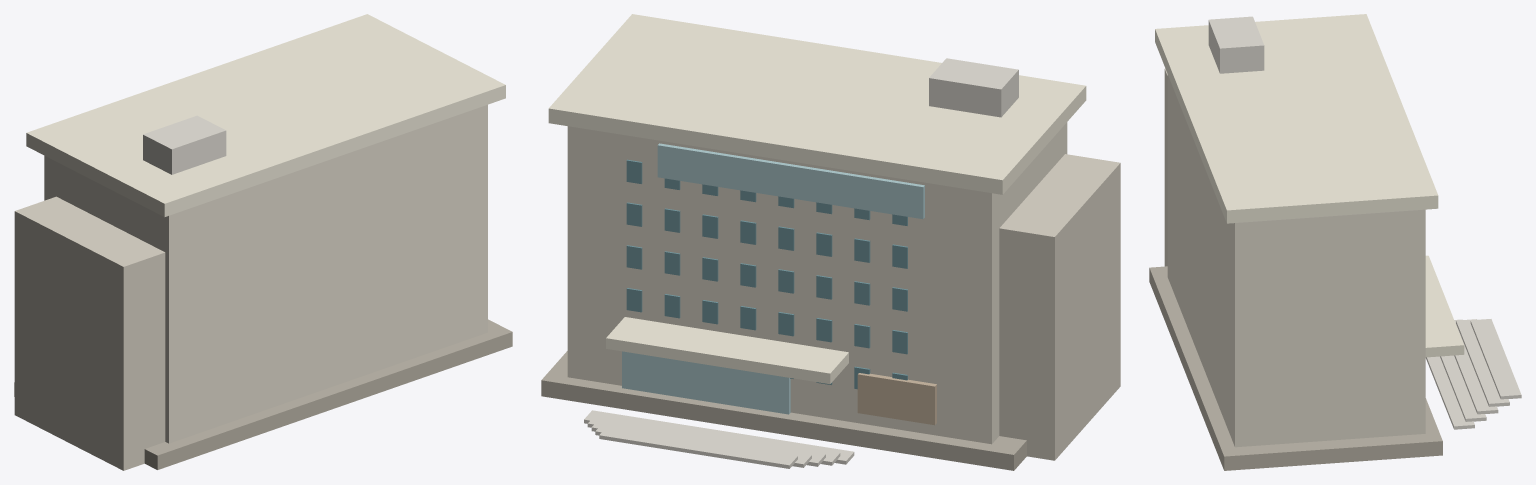
Rendered from joonha-overview.glb.
The picture shows the model from 3 angles, left to right: view 1: azimuth 30°, elevation 25°; view 2: azimuth 150°, elevation 25°; view 3: azimuth 270°, elevation 25°; orthographic projection. The views are drawn at different scales.
Bounding box in the file's own units: 33.7 × 20.9 × 24.84.
